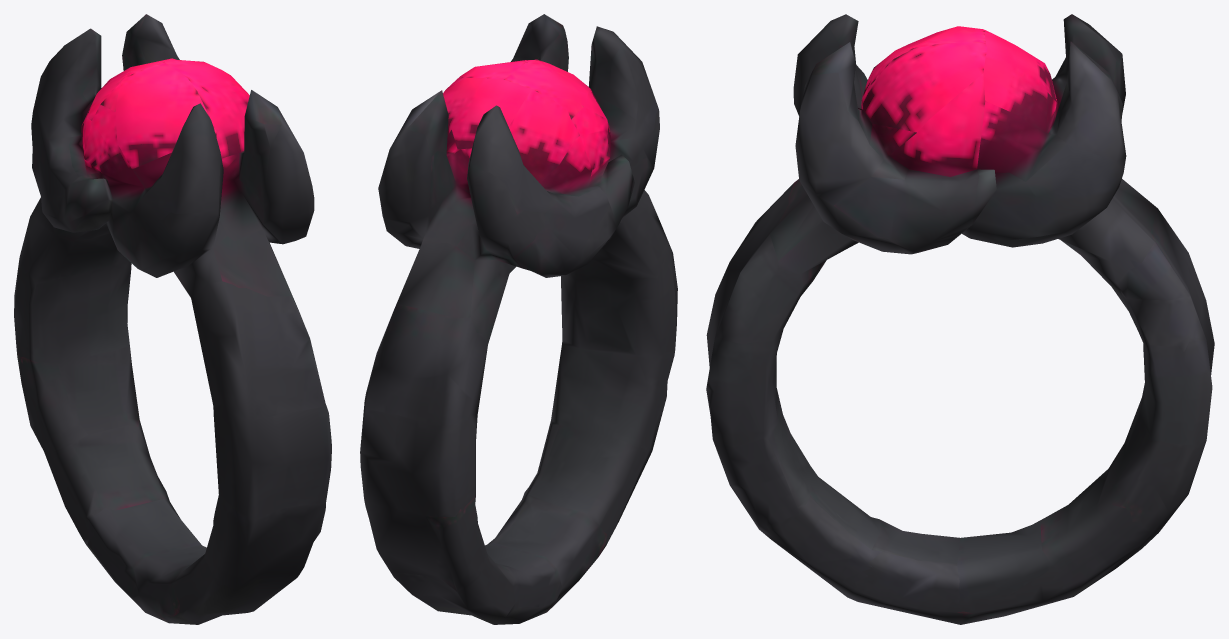
The model's file is uq_ring_bloodmoon-CNZv_Qf1.glb.
3 views of the same model, side by side, from view 1: azimuth 30°, elevation 25°; view 2: azimuth 150°, elevation 25°; view 3: azimuth 270°, elevation 25° (orthographic). The views are drawn at different scales.
Parts seen in each view (by area): view 1: tripo_node_7c5dc365-ecdc-4b02-b9ba-84b9f02ac1cd; view 2: tripo_node_7c5dc365-ecdc-4b02-b9ba-84b9f02ac1cd; view 3: tripo_node_7c5dc365-ecdc-4b02-b9ba-84b9f02ac1cd.
Boxes of the visible parts, x1,y1,x2,y2 form: tripo_node_7c5dc365-ecdc-4b02-b9ba-84b9f02ac1cd: (14, 14, 331, 624); tripo_node_7c5dc365-ecdc-4b02-b9ba-84b9f02ac1cd: (360, 14, 677, 624); tripo_node_7c5dc365-ecdc-4b02-b9ba-84b9f02ac1cd: (706, 14, 1214, 624).
Size of the model in its own units: 0.4032 by 1 by 0.7905.
1 material, 1 textured.
